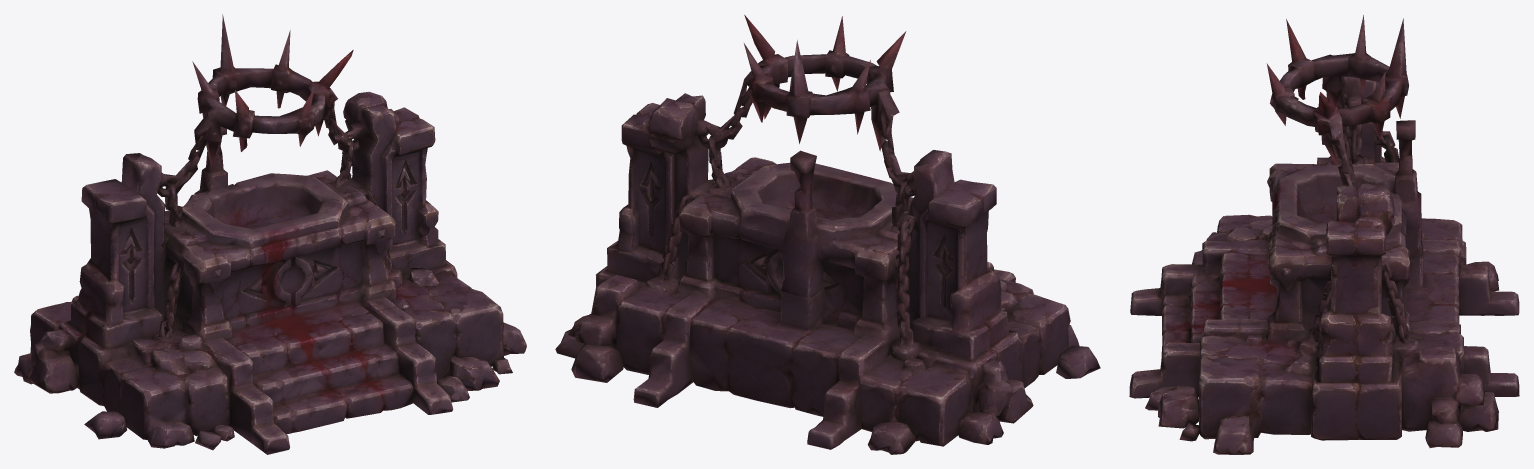
Rendered from shrine_blood.glb.
3 renders of one model, left to right at view 1: azimuth 30°, elevation 25°; view 2: azimuth 150°, elevation 25°; view 3: azimuth 270°, elevation 25°, orthographic. The views are drawn at different scales.
Visible parts, largest first — view 1: tripo_node_c742d6bf-f54b-4424-bf04-40240e293be4; view 2: tripo_node_c742d6bf-f54b-4424-bf04-40240e293be4; view 3: tripo_node_c742d6bf-f54b-4424-bf04-40240e293be4.
Part boxes in pixels (x1,y1,x2,y2): tripo_node_c742d6bf-f54b-4424-bf04-40240e293be4: (14, 14, 526, 454); tripo_node_c742d6bf-f54b-4424-bf04-40240e293be4: (555, 15, 1100, 454); tripo_node_c742d6bf-f54b-4424-bf04-40240e293be4: (1129, 15, 1519, 454).
Size of the model in its own units: 1 by 0.735 by 0.7819.
Materials: 1 (1 with a texture image).
